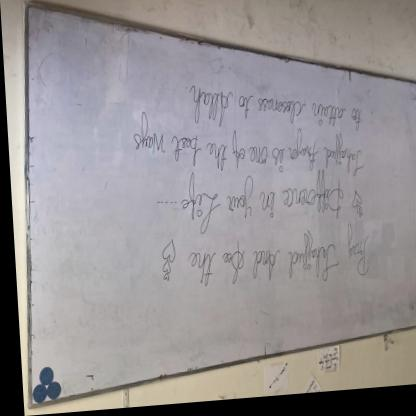Handwritten text: (118, 123, 370, 188), (178, 81, 372, 162), (177, 234, 372, 309), (174, 177, 349, 235)
Whiteboard: (20, 3, 416, 408)
